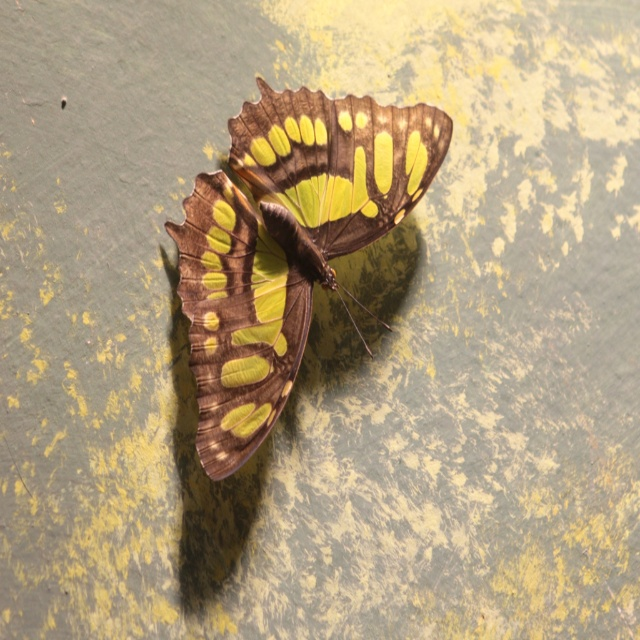Butterfly: (164, 74, 454, 483)
